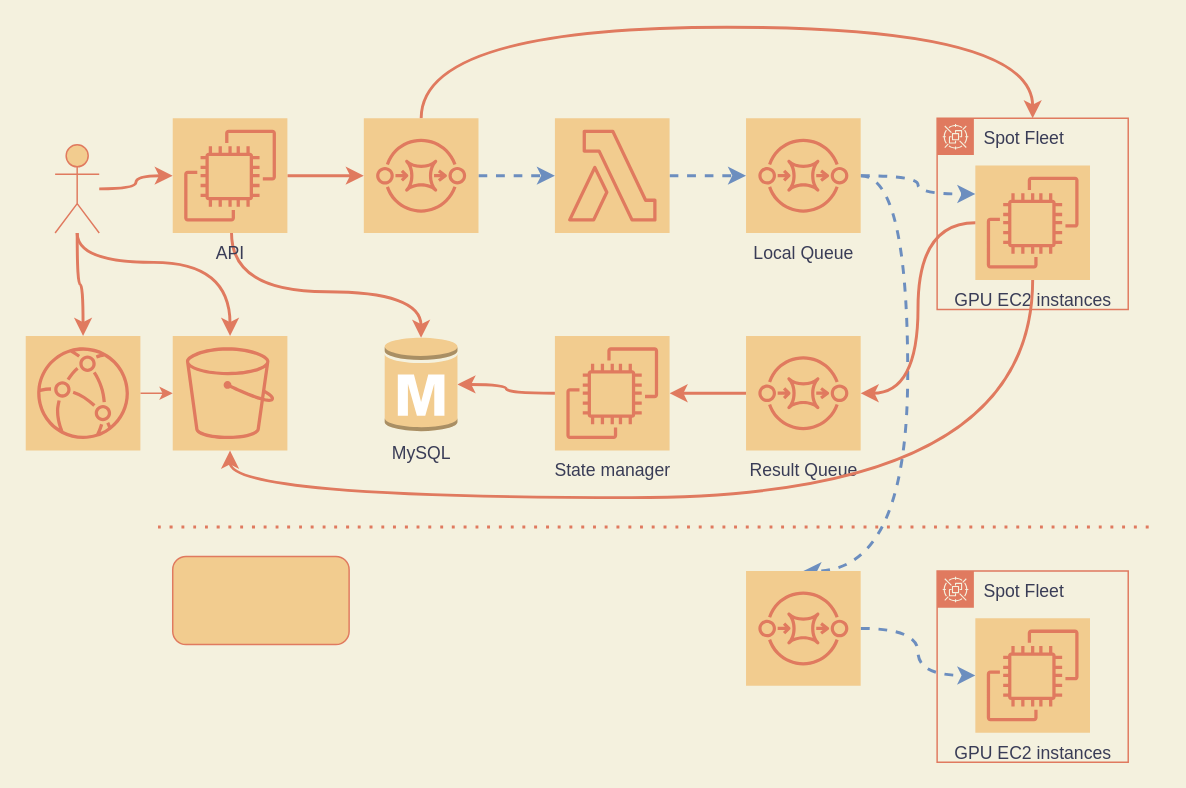
Image size: 1186x788. Some labels were removed from this diagram. Each missing label, with the box of its shape:
Job distributor: (553, 117, 670, 233)
Main Queue: (362, 117, 478, 233)
Other 5+ regions: (171, 555, 349, 645)
User: (54, 143, 99, 233)
